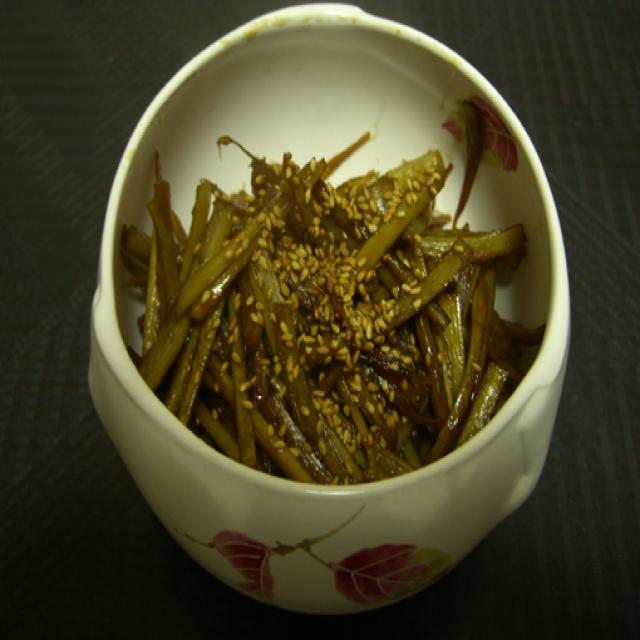蔬菜料理: (107, 93, 553, 494)
